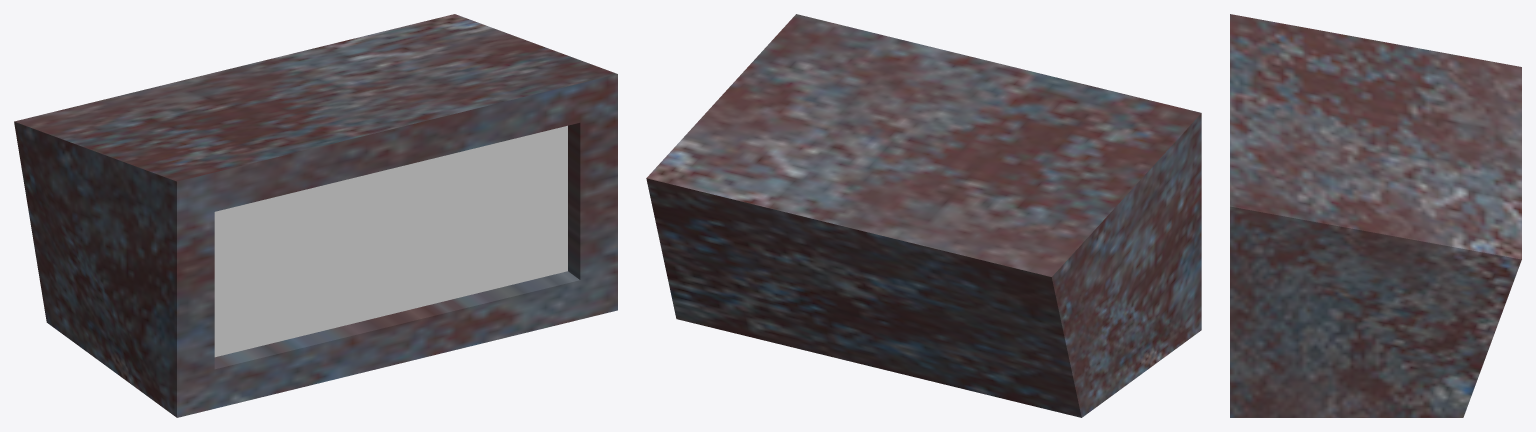
Rendered from Light Focus_FBX.fbx.
3 renders of one model, left to right at view 1: azimuth 30°, elevation 25°; view 2: azimuth 150°, elevation 25°; view 3: azimuth 270°, elevation 25°, orthographic. The views are drawn at different scales.
Visible parts, largest first — view 1: Cube; view 2: Cube; view 3: Cube.
Boxes of the visible parts, x1,y1,x2,y2 form: Cube: (14, 14, 617, 417); Cube: (646, 14, 1201, 417); Cube: (1230, 14, 1521, 417).
Bounding box in the file's own units: 38.91 × 19.93 × 24.93.
